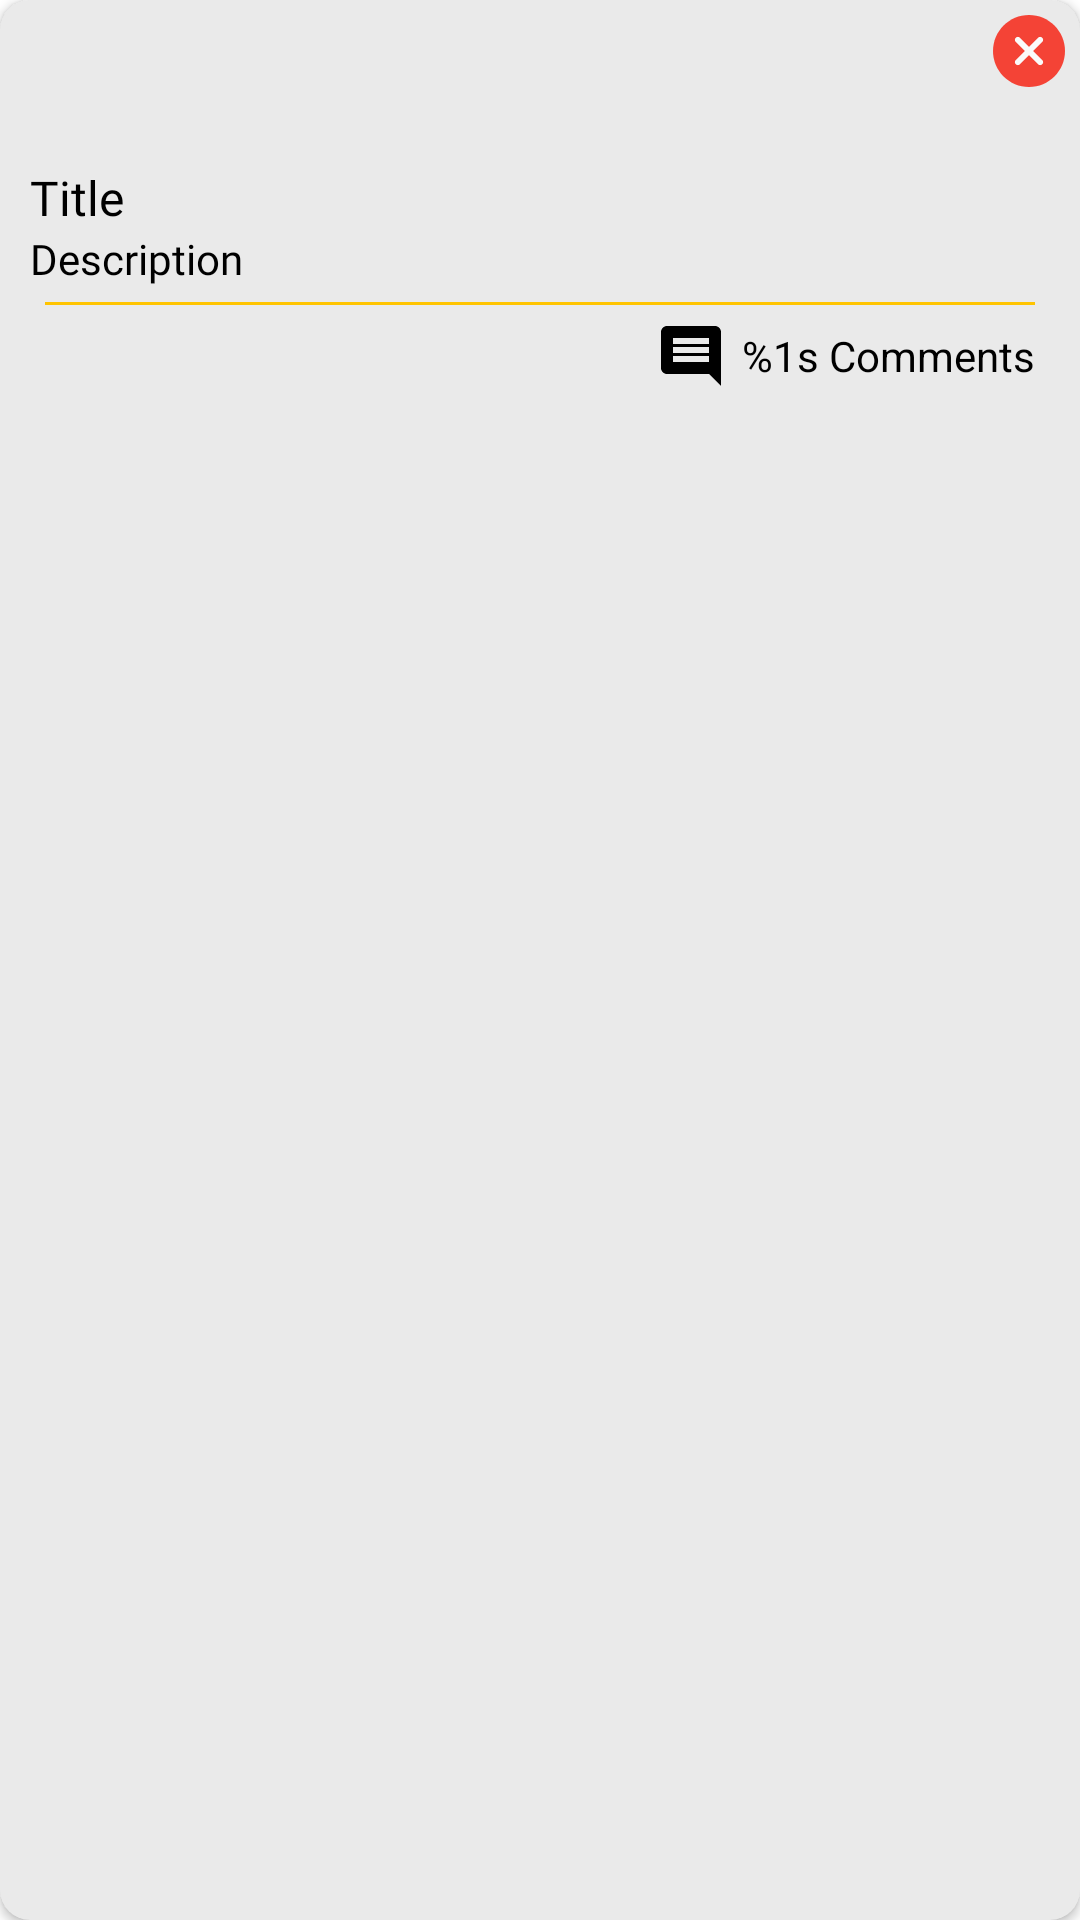

Locate icon controls on the screen. Image size 1080 x 1920, boxes as [left=x1, top=y1, right=x2, bottom=y2].
delete: [left=993, top=15, right=1065, bottom=87]
